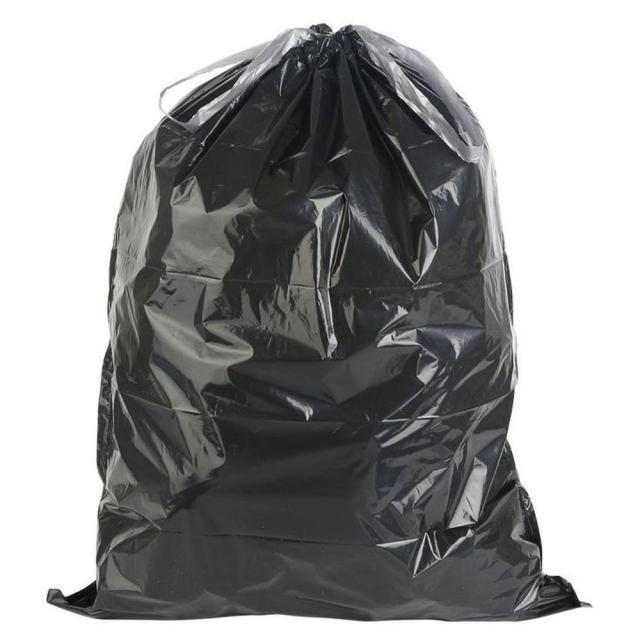Garbage_Bag: (86, 14, 590, 622)
